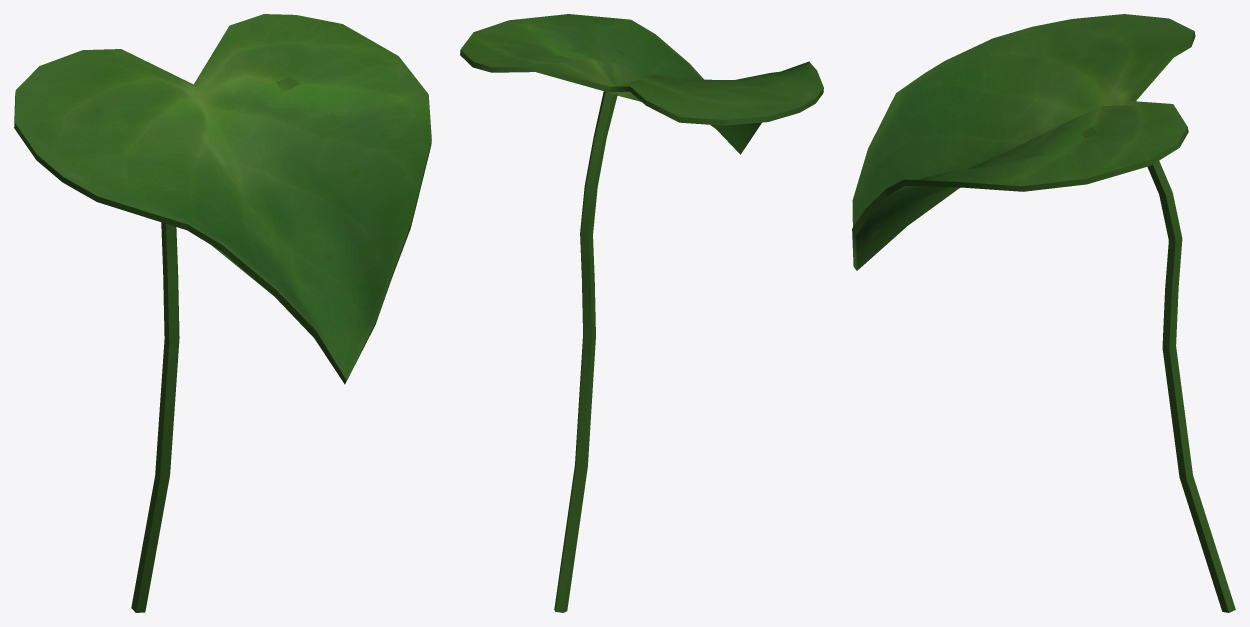
The model's file is Planta 1 textura.fbx.
The picture shows the model from 3 angles, left to right: view 1: azimuth 30°, elevation 25°; view 2: azimuth 150°, elevation 25°; view 3: azimuth 270°, elevation 25°; orthographic projection. The views are drawn at different scales.
Parts seen in each view (by area): view 1: Planta_1; view 2: Planta_1; view 3: Planta_1.
Part boxes in pixels (x1,y1,x2,y2): Planta_1: (14, 14, 431, 612); Planta_1: (460, 14, 823, 612); Planta_1: (852, 14, 1235, 612).
Bounding box in the file's own units: 77.4 × 119 × 77.45.
1 material, 1 textured.
